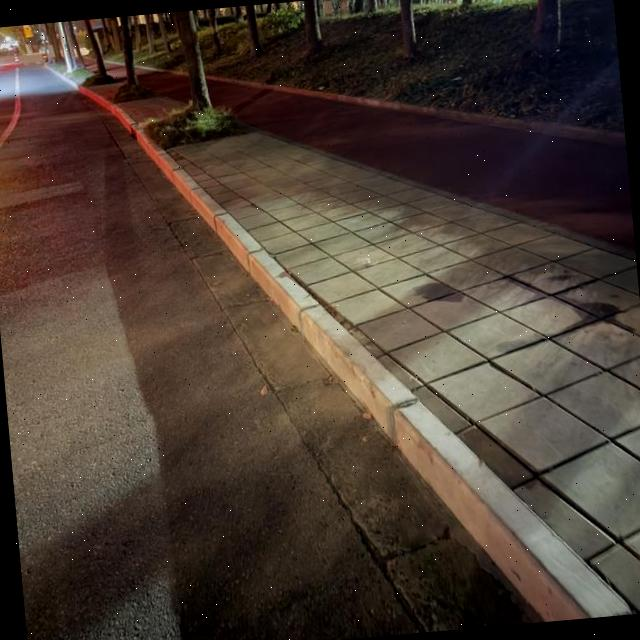curb: (135, 123, 627, 620), (209, 76, 625, 145), (208, 75, 625, 141), (43, 64, 135, 135), (134, 65, 187, 77)
